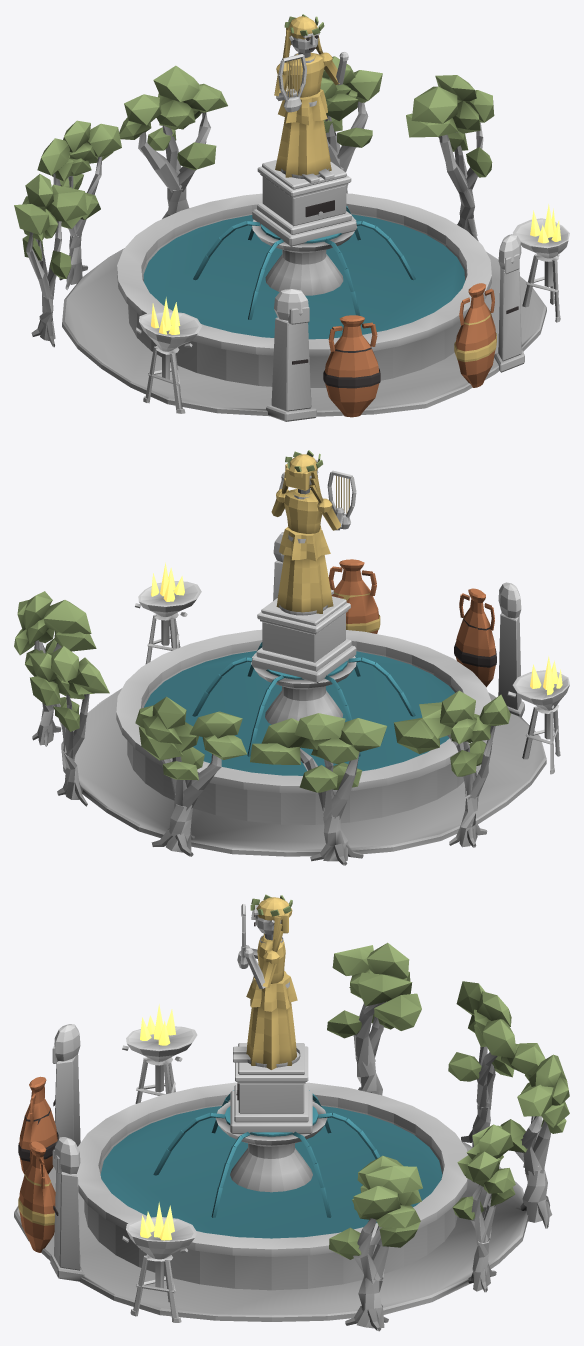
File: apollo-fountain-l1.glb
3 renders of one model, top to bottom at view 1: azimuth 30°, elevation 25°; view 2: azimuth 150°, elevation 25°; view 3: azimuth 270°, elevation 25°, orthographic. The views are drawn at different scales.
Visible parts, largest first — view 1: apollo-fountain-l1; view 2: apollo-fountain-l1; view 3: apollo-fountain-l1.
Boxes of the visible parts, left/top/right/bottom form: apollo-fountain-l1: left=14, top=14, right=569, bottom=421; apollo-fountain-l1: left=14, top=450, right=569, bottom=865; apollo-fountain-l1: left=14, top=894, right=569, bottom=1331.
Bounding box in the file's own units: 1.7 × 1.02 × 1.6.
